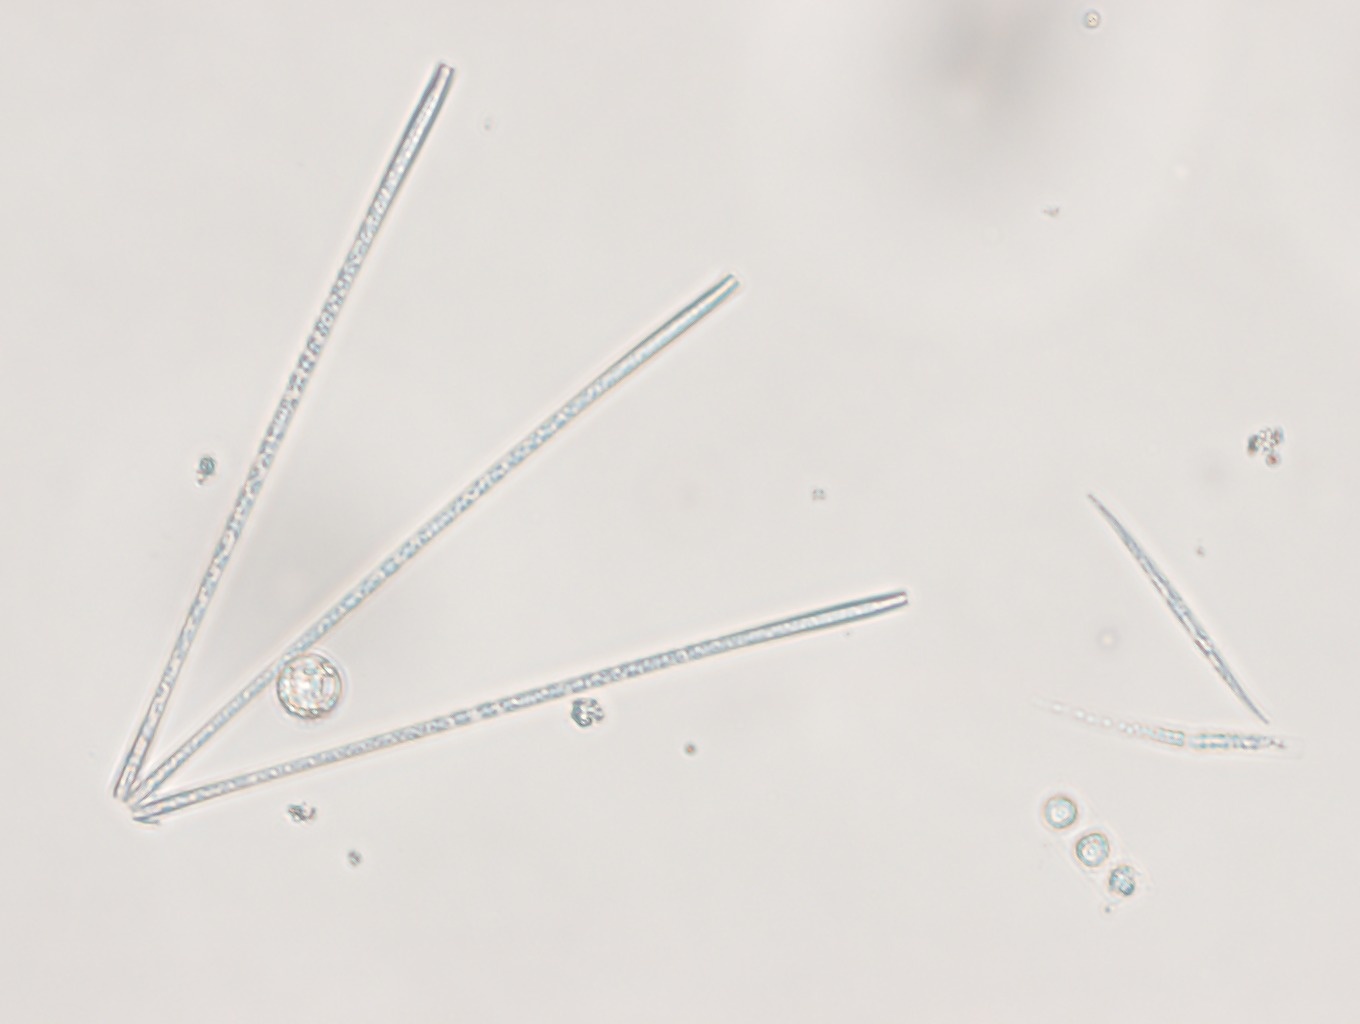pleurosigma pelagicum: (1089, 489, 1272, 729)
thalassionema frauenfeldii: (111, 59, 910, 824)
